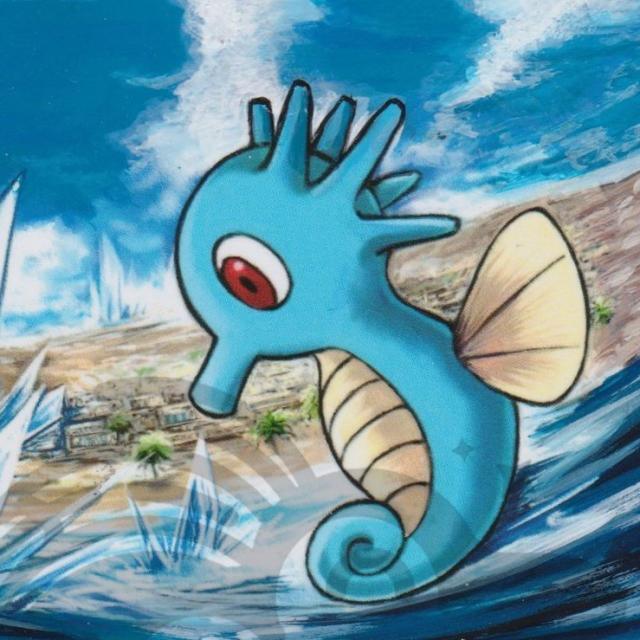Horsea: (167, 64, 590, 608)
